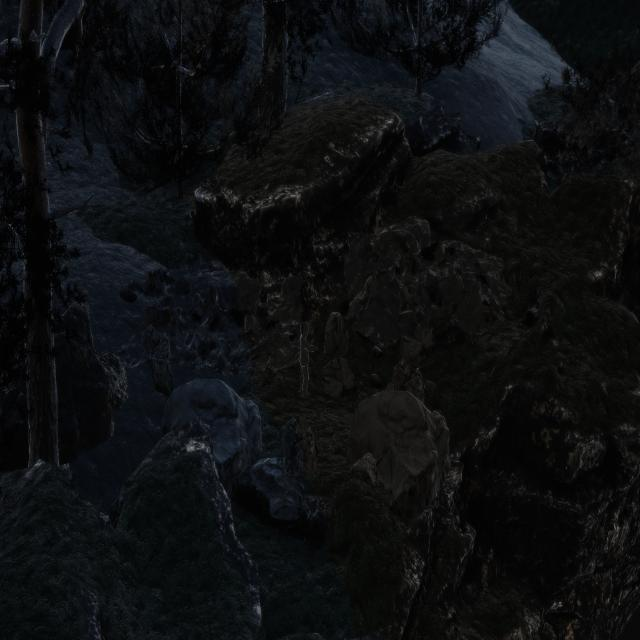Human: (292, 308, 317, 404)
